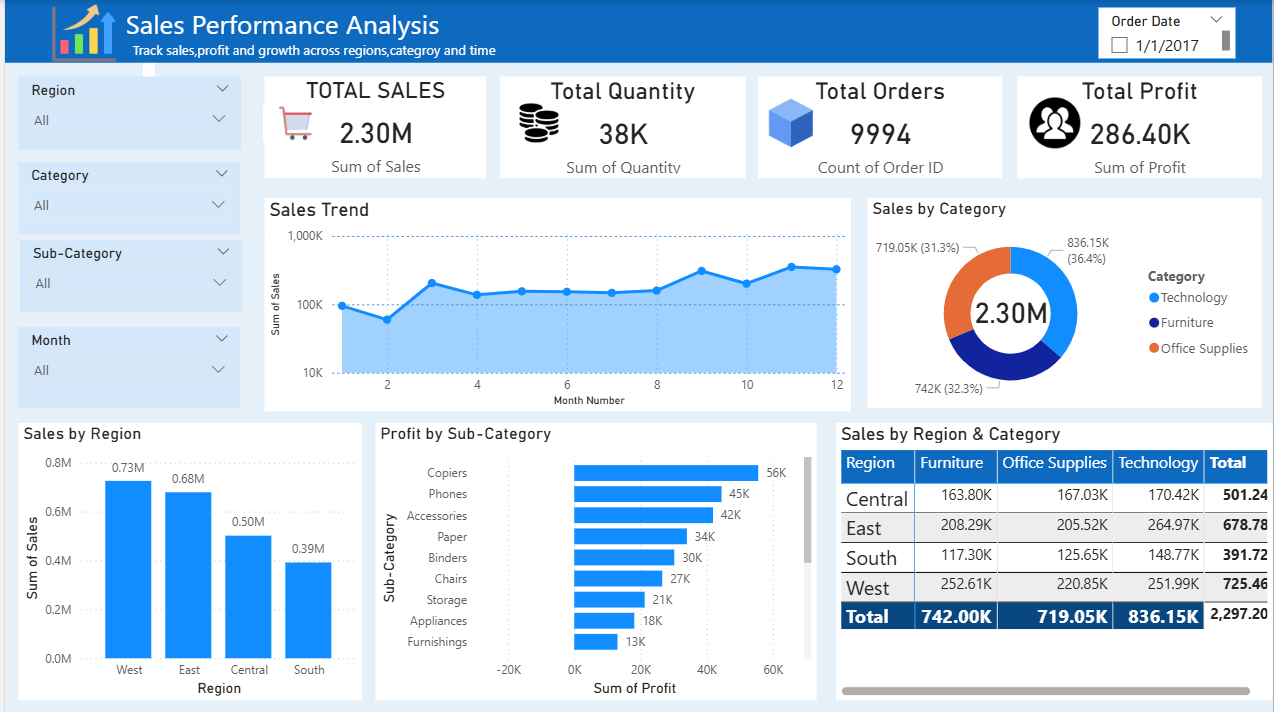

The dashboard page shown, as its layout file describes it:
{"tool":"powerbi","page":{"name":"Page 1","canvas":[1280,720],"ordinal":0},"visuals":[{"type":"card","title":"TOTAL SALES","fields":{"Values":["Sum(Sample - Superstore.Sales)"]},"box":[262,77.2,224.1,103],"z":0},{"type":"card","title":"Total Quantity","fields":{"Values":["Sum(Sample - Superstore.Quantity)"]},"box":[499.7,77.2,248.3,103],"z":1000},{"type":"card","title":"Total Orders","fields":{"Values":["CountNonNull(Sample - Superstore.Order ID)"]},"box":[760.1,77.2,246.8,103],"z":2000},{"type":"card","title":"Total Profit","fields":{"Values":["Sum(Sample - Superstore.Profit)"]},"box":[1022.1,77.2,246.8,103],"z":3000},{"type":"donutChart","title":" Sales by Category","fields":{"Category":["Sample - Superstore.Category"],"Y":["Sum(Sample - Superstore.Sales)"]},"box":[870.7,199.9,398.2,212],"z":4000},{"type":"clusteredColumnChart","title":" Sales by Region","fields":{"Category":["Sample - Superstore.Region"],"Y":["Sum(Sample - Superstore.Sales)"]},"box":[13.6,427,346.8,280.1],"z":5000},{"type":"clusteredBarChart","title":" Profit by Sub-Category","fields":{"Category":["Sample - Superstore.Sub-Category"],"Y":["Sum(Sample - Superstore.Profit)"]},"box":[374,427,445.2,280.1],"z":6000},{"type":"pivotTable","title":"Sales by Region & Category","fields":{"Rows":["Sample - Superstore.Region"],"Columns":["Sample - Superstore.Category"],"Values":["Sum(Sample - Superstore.Sales)"]},"box":[838.9,427,440.6,280.1],"z":7000},{"type":"lineChart","title":"Sales Trend","fields":{"Category":["Sample - Superstore.Month Number"],"Y":["Sum(Sample - Superstore.Sales)"]},"box":[262,199.9,592.1,215],"z":8000},{"type":"textbox","box":[139.3,0,12.1,77.2],"z":9000},{"type":"textbox","box":[0,0,1279.5,63.6],"z":10000},{"type":"slicer","fields":{"Values":["Sample - Superstore.Region"]},"box":[13.2,77.5,224.9,73.7],"z":11000},{"type":"slicer","fields":{"Values":["Sample - Superstore.Category"]},"box":[13.6,163.5,224.1,72.7],"z":12000},{"type":"slicer","fields":{"Values":["Sample - Superstore.Sub-Category"]},"box":[15.1,242.3,224.1,72.7],"z":13000},{"type":"slicer","fields":{"Values":["Sample - Superstore.Month"]},"box":[13.6,330.1,224.1,81.8],"z":14000},{"type":"image","box":[260.4,106,65.1,36.3],"z":15000},{"type":"image","box":[519.4,98.4,39.4,51.5],"z":16000},{"type":"image","box":[767.7,92.4,51.5,63.6],"z":17000},{"type":"image","box":[1034.2,98.4,51.5,51.5],"z":18000},{"type":"card","fields":{"Values":["Sum(Sample - Superstore.Sales)"]},"box":[970.6,280.1,89.3,68.1],"z":19000},{"type":"image","box":[0,0,160.5,66.6],"z":20000},{"type":"slicer","fields":{"Values":["Sample - Superstore.Order Date"]},"box":[1103.9,7.6,137.8,51.5],"z":21000}]}

Visuals, with their boxes in screenshot pixels (x1, y1, x2, y2), scaled from the page's 1280x720 canvas onto the 1274x712 screenshot:
"TOTAL SALES" card: {"left": 261, "top": 76, "right": 484, "bottom": 178}
"Total Quantity" card: {"left": 497, "top": 76, "right": 744, "bottom": 178}
"Total Orders" card: {"left": 757, "top": 76, "right": 1002, "bottom": 178}
"Total Profit" card: {"left": 1017, "top": 76, "right": 1263, "bottom": 178}
" Sales by Category" donutChart: {"left": 867, "top": 198, "right": 1263, "bottom": 407}
" Sales by Region" clusteredColumnChart: {"left": 14, "top": 422, "right": 359, "bottom": 699}
" Profit by Sub-Category" clusteredBarChart: {"left": 372, "top": 422, "right": 815, "bottom": 699}
"Sales by Region & Category" pivotTable: {"left": 835, "top": 422, "right": 1273, "bottom": 699}
"Sales Trend" lineChart: {"left": 261, "top": 198, "right": 850, "bottom": 410}
textbox: {"left": 139, "top": 0, "right": 151, "bottom": 76}
textbox: {"left": 0, "top": 0, "right": 1273, "bottom": 63}
slicer - Sample - Superstore.Region: {"left": 13, "top": 77, "right": 237, "bottom": 150}
slicer - Sample - Superstore.Category: {"left": 14, "top": 162, "right": 237, "bottom": 234}
slicer - Sample - Superstore.Sub-Category: {"left": 15, "top": 240, "right": 238, "bottom": 312}
slicer - Sample - Superstore.Month: {"left": 14, "top": 326, "right": 237, "bottom": 407}
image: {"left": 259, "top": 105, "right": 324, "bottom": 141}
image: {"left": 517, "top": 97, "right": 556, "bottom": 148}
image: {"left": 764, "top": 91, "right": 815, "bottom": 154}
image: {"left": 1029, "top": 97, "right": 1081, "bottom": 148}
card - Sum(Sample - Superstore.Sales): {"left": 966, "top": 277, "right": 1055, "bottom": 344}
image: {"left": 0, "top": 0, "right": 160, "bottom": 66}
slicer - Sample - Superstore.Order Date: {"left": 1099, "top": 8, "right": 1236, "bottom": 58}
